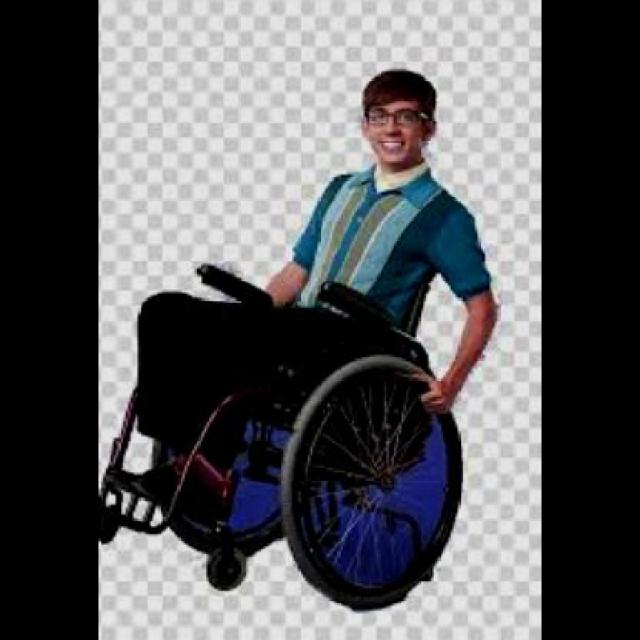wheelchairs: (113, 230, 483, 618)
